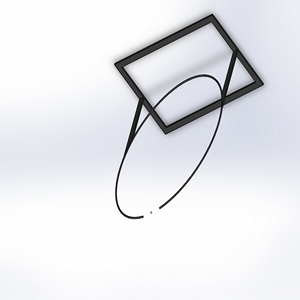circle: (112, 13, 264, 220)
